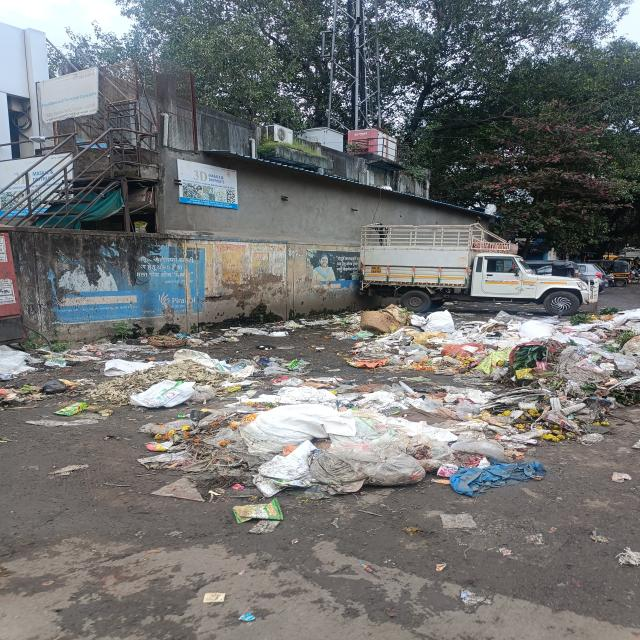garbage: (109, 357, 629, 483), (347, 308, 640, 360), (3, 332, 175, 414)
